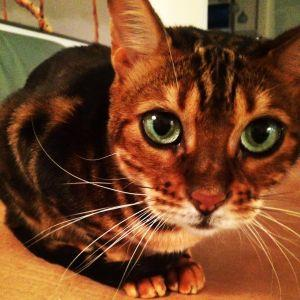bengal: (86, 1, 300, 252)
